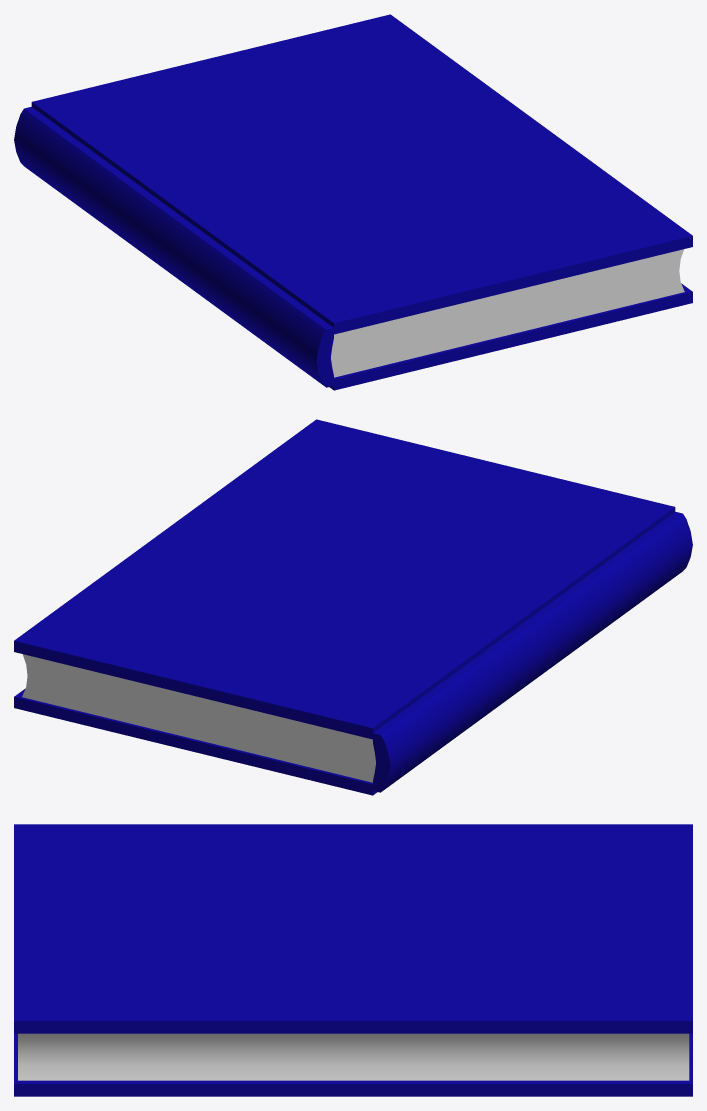
Rendered from BlueBook.fbx.
3 views of the same model, one above another, from view 1: azimuth 30°, elevation 25°; view 2: azimuth 150°, elevation 25°; view 3: azimuth 270°, elevation 25° (orthographic). The views are drawn at different scales.
Parts seen in each view (by area): view 1: pCube1.003, pCube1.002; view 2: pCube1.003, pCube1.002; view 3: pCube1.003, pCube1.002.
Boxes of the visible parts, left/top/right/bottom form: pCube1.003: left=14, top=14, right=692, bottom=390; pCube1.002: left=331, top=249, right=684, bottom=377; pCube1.003: left=14, top=419, right=692, bottom=795; pCube1.002: left=22, top=654, right=375, bottom=782; pCube1.003: left=14, top=824, right=692, bottom=1096; pCube1.002: left=18, top=1033, right=689, bottom=1080.
Bounding box in the file's own units: 176 × 30 × 244.
